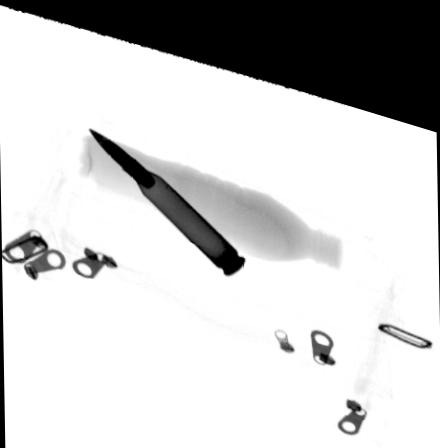Bullet: (86, 121, 245, 262)
